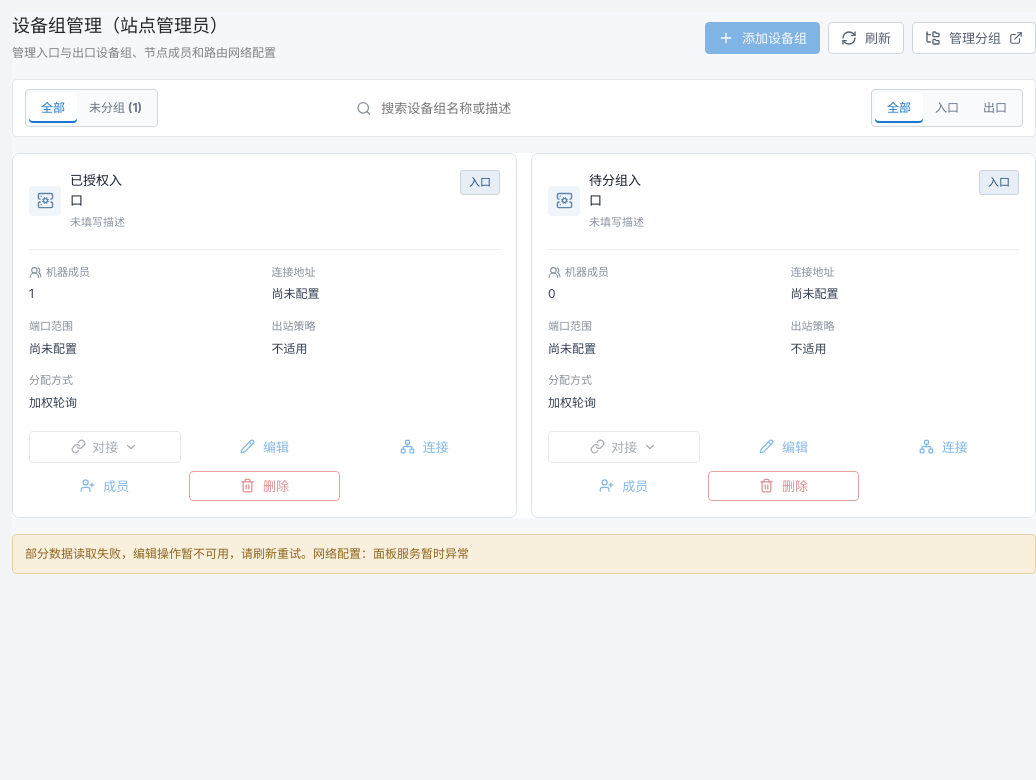
Test case: DeviceGroupsPage › keeps the group list visible when an auxiliary API fails and blocks edits until retry succeeds
The image size is (1036, 780).
Expected: the element named "设备组列表" is disabled, 12,153 -> 1035,518
Click the button "刷新". click: click(866, 38)
box: 828,22 -> 904,54
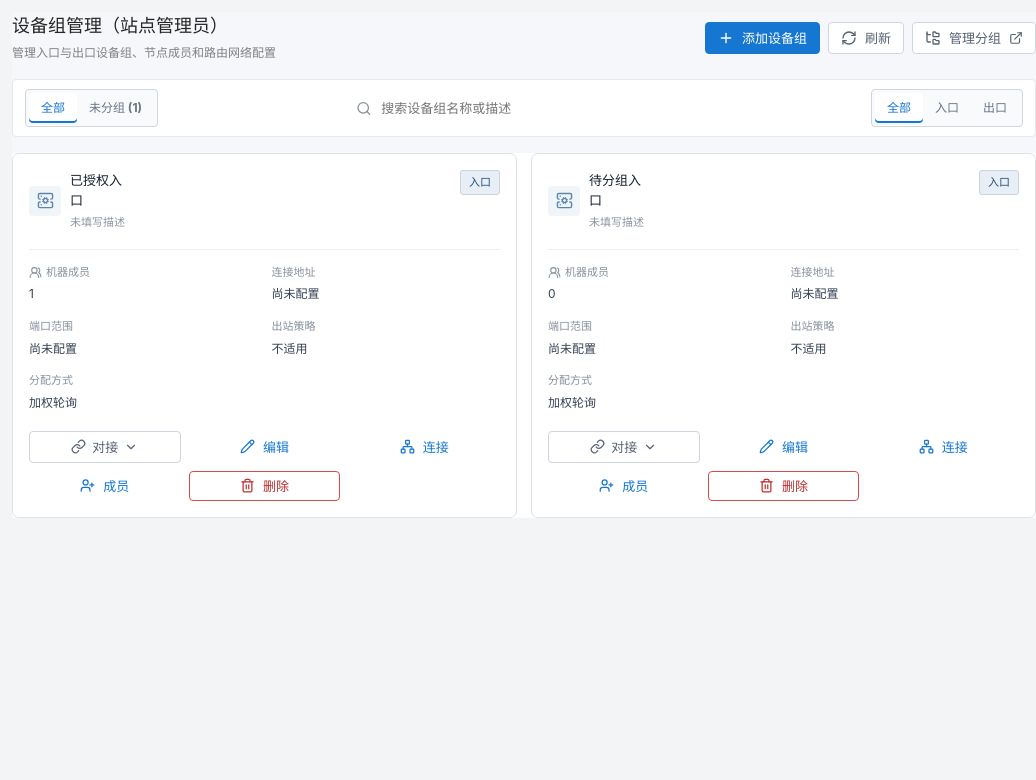
Now the element named "设备组列表" is enabled, box 12,153 -> 1035,518
Now the text "部分数据读取失败" is gone
